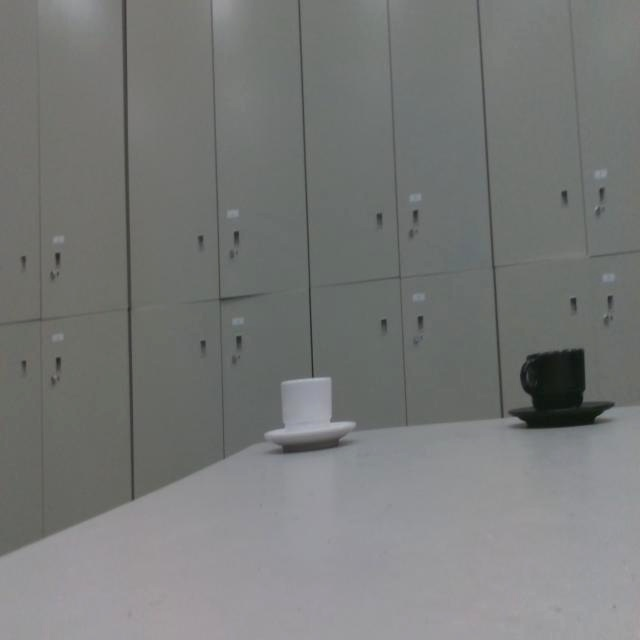black: (504, 347, 615, 434)
white: (264, 359, 356, 457)
